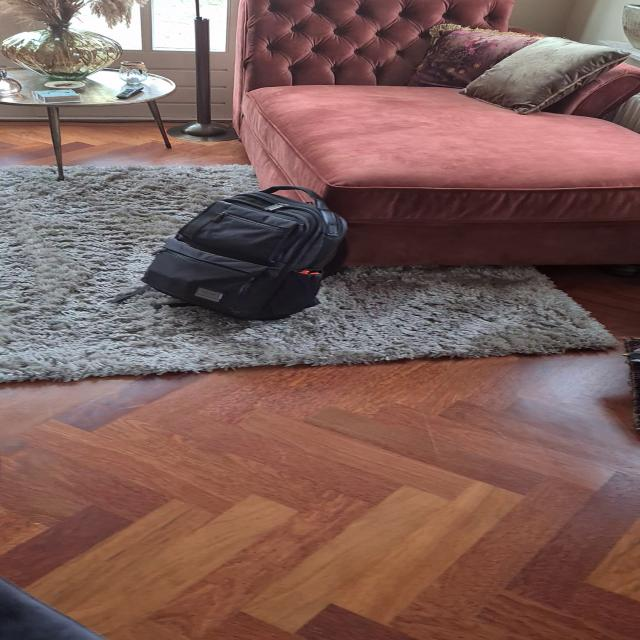backpack: (132, 181, 359, 326)
